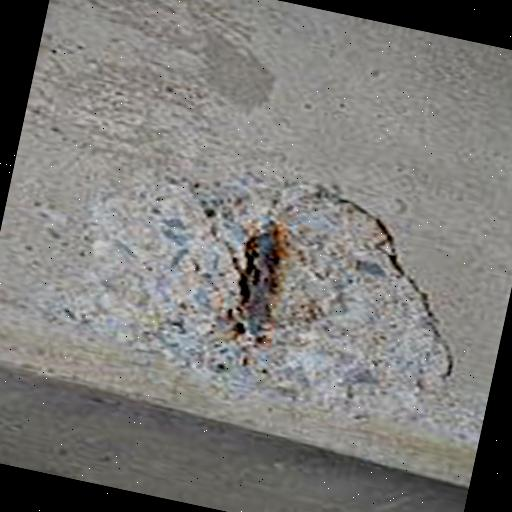spalling: (46, 116, 498, 444)
